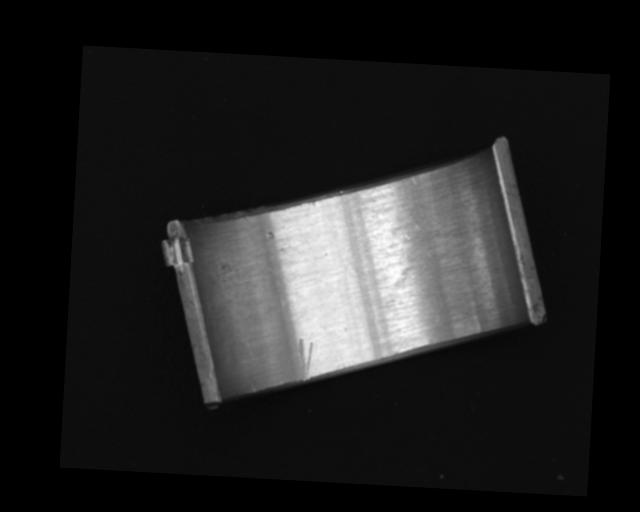bruise: (264, 229, 275, 240)
nick: (295, 338, 316, 381), (248, 381, 256, 393)
